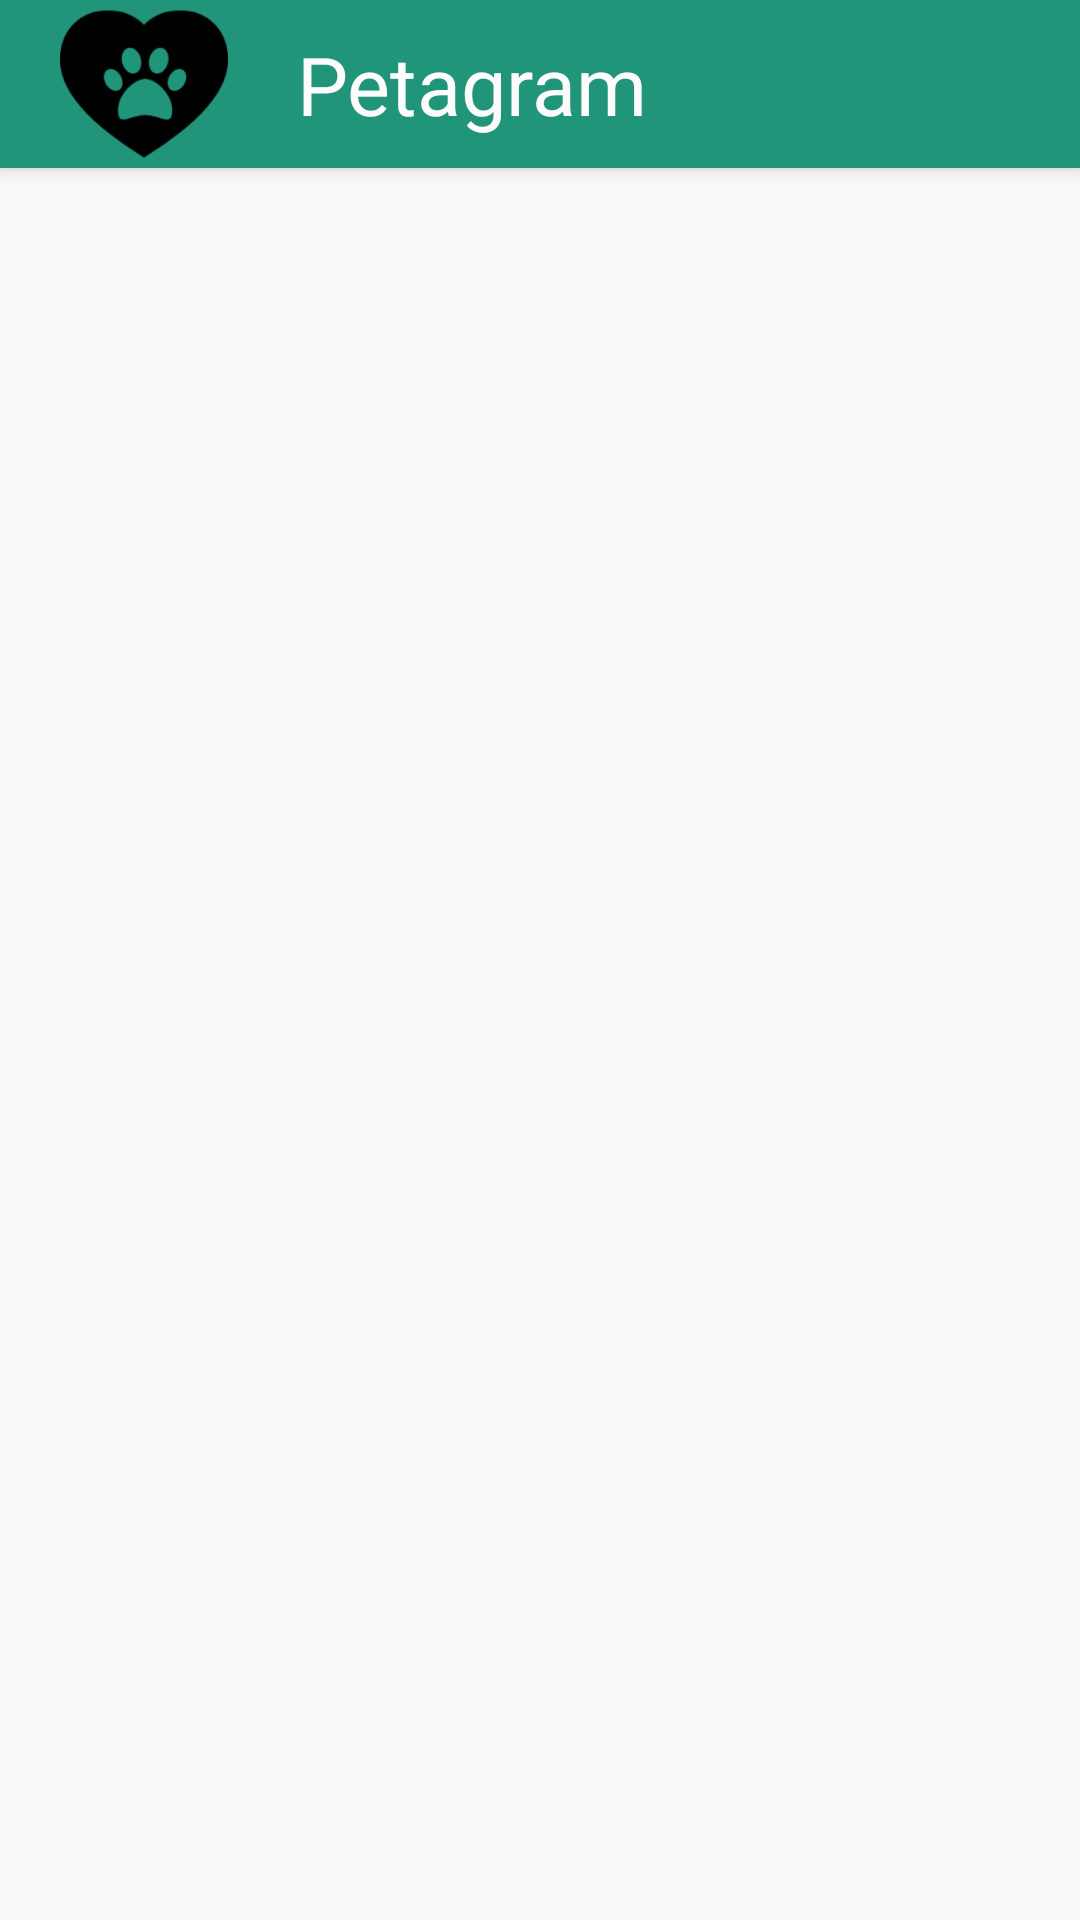

Icons on this 1080px x 1920px Android screen, each with its box as (x1, y1, x2, y2):
huella: (60, 10, 228, 158)
